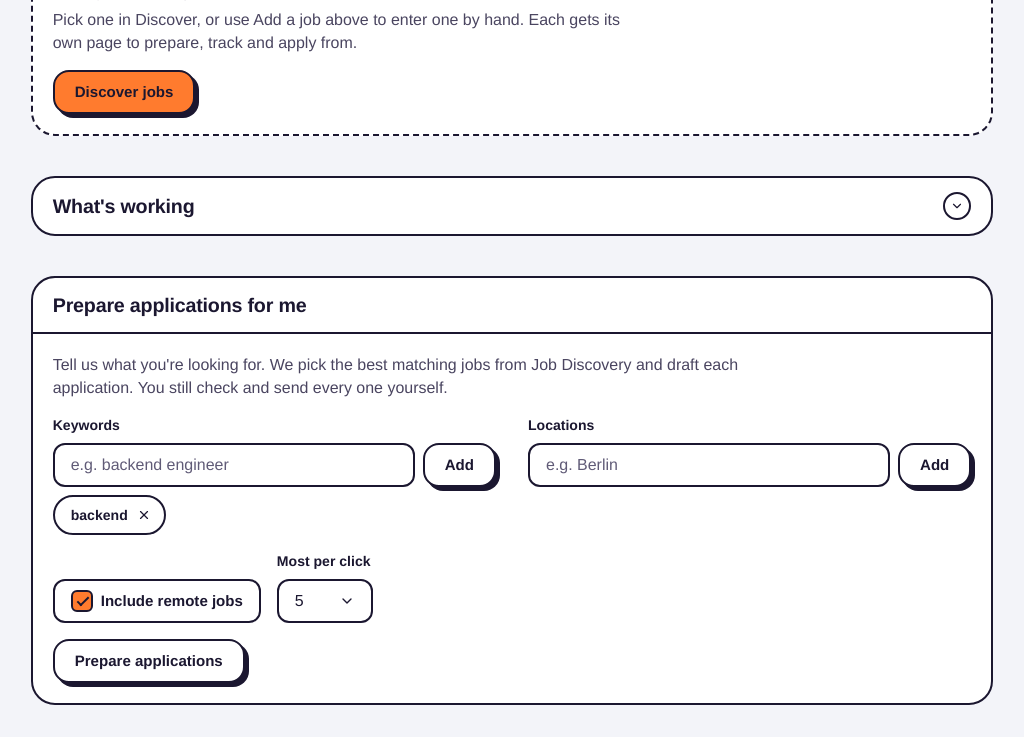
it: Prepare applications for me › sends the owner to the profile when nothing is confirmed there yet
This screenshot has width=1024, height=737.
(page scrolled)
Expected: the text "backend" is shown, [71,505,128,525]
Step 1. Click the button "Prepare applications" → (149, 661), box [53,639,245,683]
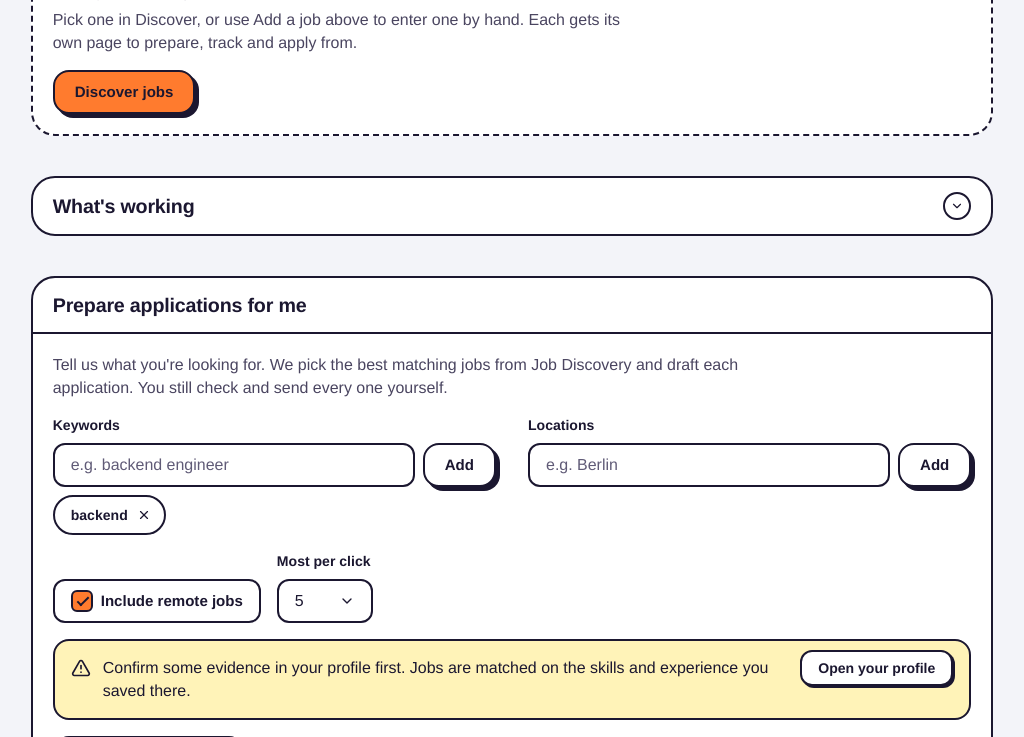
Result: the text "Confirm some evidence in your profile first" is shown at [103,658,768,700]
